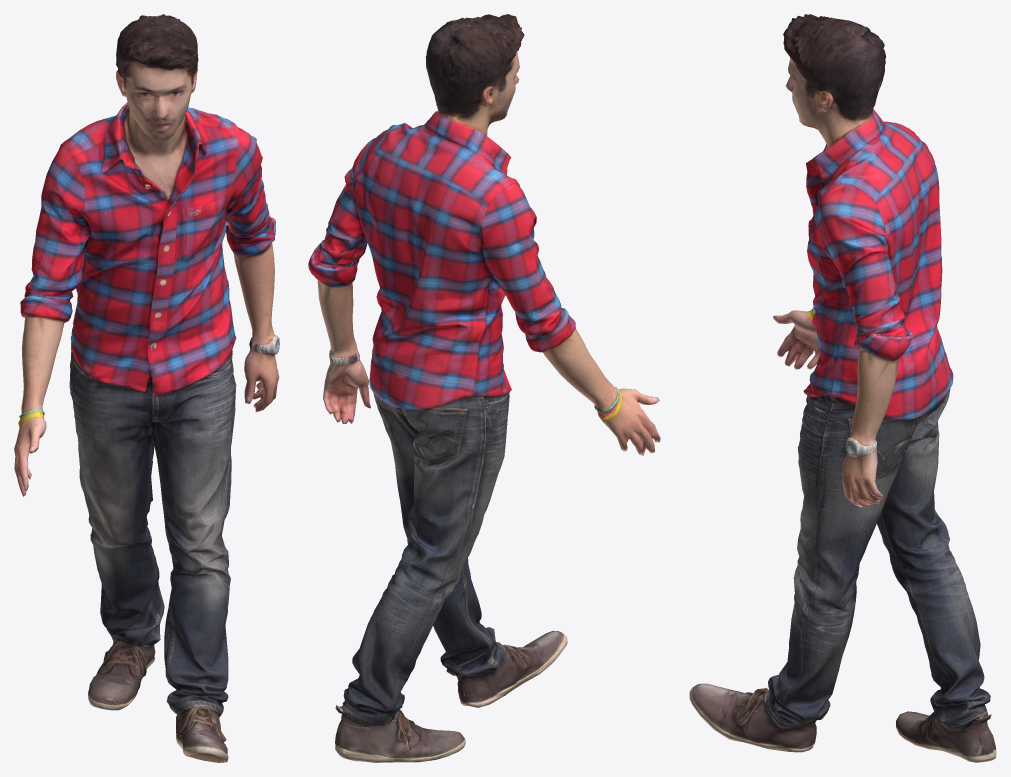
The model's file is man.glb.
3 renders of one model, left to right at view 1: azimuth 30°, elevation 25°; view 2: azimuth 150°, elevation 25°; view 3: azimuth 270°, elevation 25°, orthographic. The views are drawn at different scales.
Visible parts, largest first — view 1: man; view 2: man; view 3: man.
Part boxes in pixels (bbox=[...]): man: bbox=[14, 14, 279, 762]; man: bbox=[308, 14, 660, 762]; man: bbox=[689, 14, 996, 762].
Bounding box in the file's own units: 0.7647 × 1.73 × 0.6726.
Materials: 1 (1 with a texture image).
